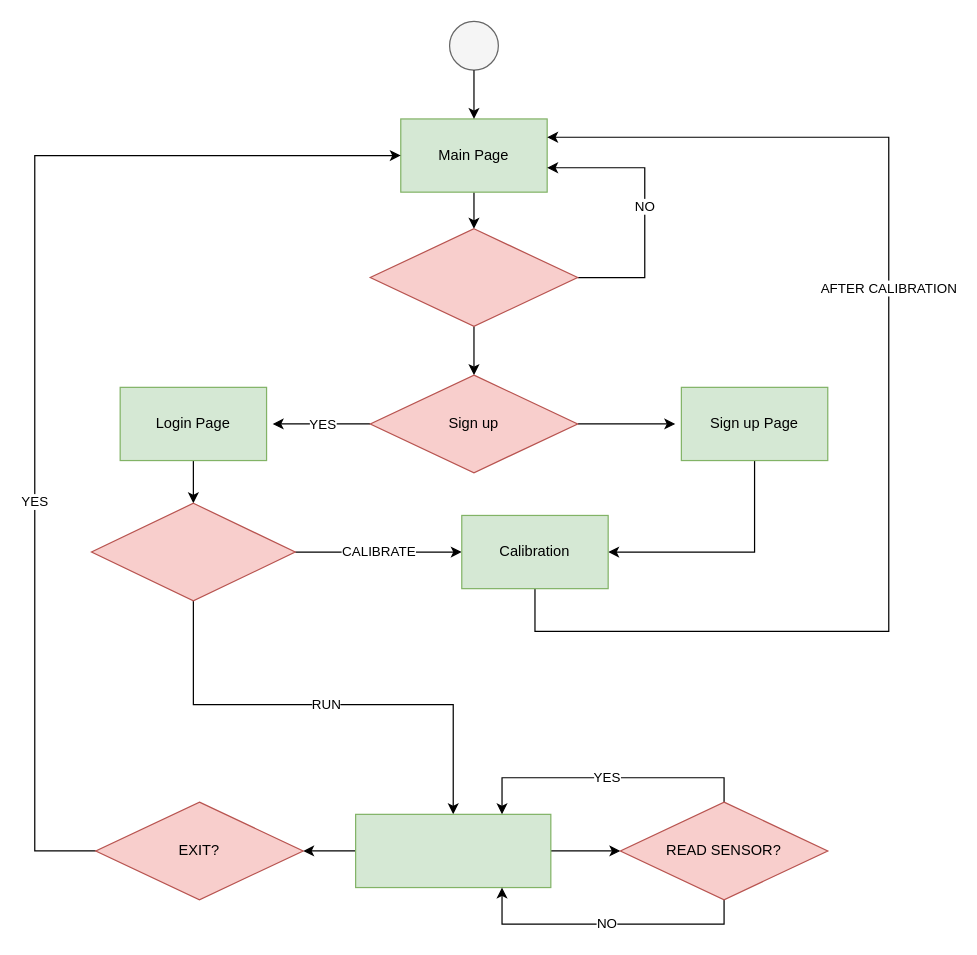
The diagram is 977 pixels wide and 955 high, and some of its shapes have lost their labels. Each missing label, with the box of its shape:
Login: (369, 228, 578, 326)
RUN/CALIBRATION: (90, 502, 295, 601)
Session Page: (354, 813, 551, 888)
